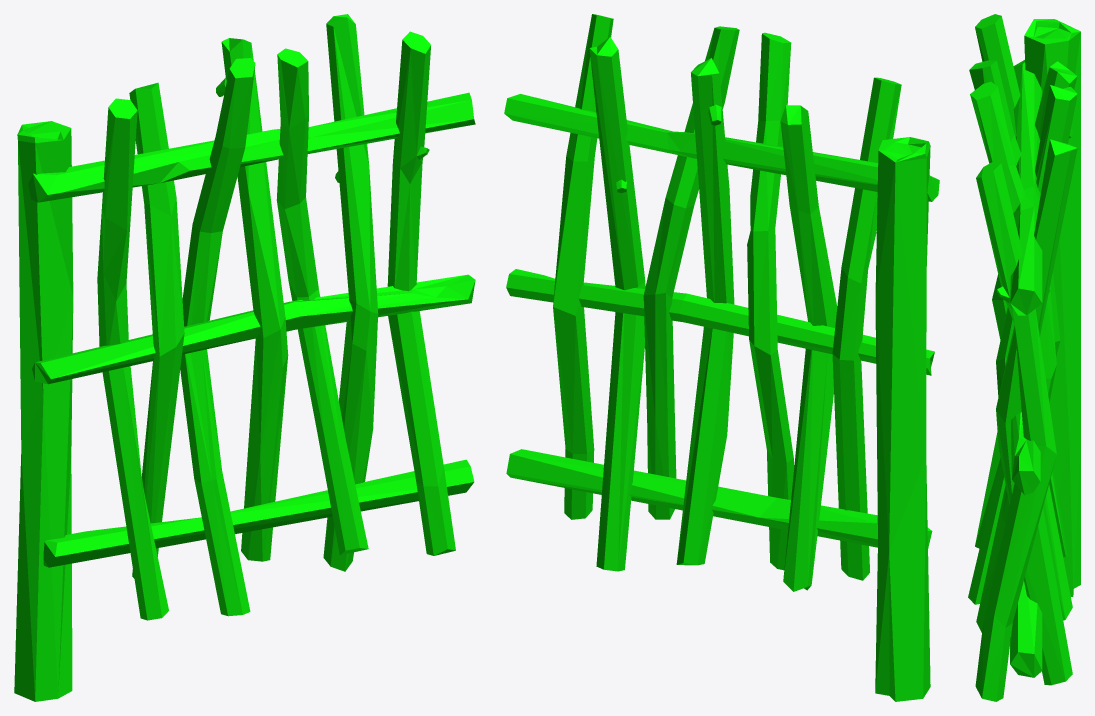
File: SM_Fence_Stick_Weave_1m.fbx
3 renders of one model, left to right at view 1: azimuth 30°, elevation 25°; view 2: azimuth 150°, elevation 25°; view 3: azimuth 270°, elevation 25°, orthographic. The views are drawn at different scales.
Visible parts, largest first — view 1: fence-stick-weave-1m; view 2: fence-stick-weave-1m; view 3: fence-stick-weave-1m.
Boxes of the visible parts, x1,y1,x2,y2 form: fence-stick-weave-1m: [14, 14, 475, 701]; fence-stick-weave-1m: [504, 14, 939, 701]; fence-stick-weave-1m: [968, 14, 1080, 701].
Size of the model in its own units: 1.12 by 1.48 by 0.2496.
